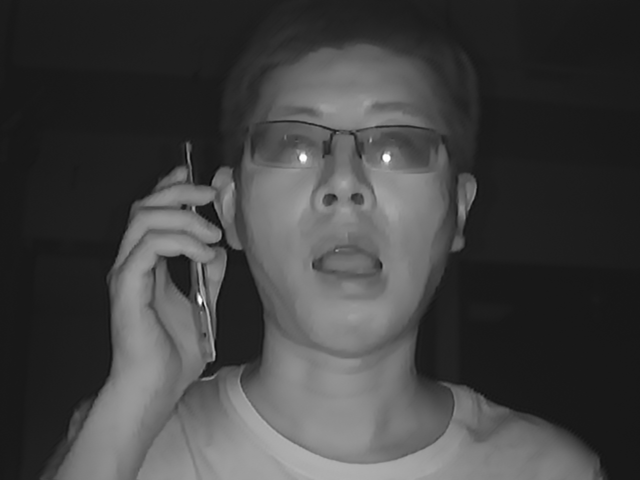hand: (109, 172, 231, 385)
